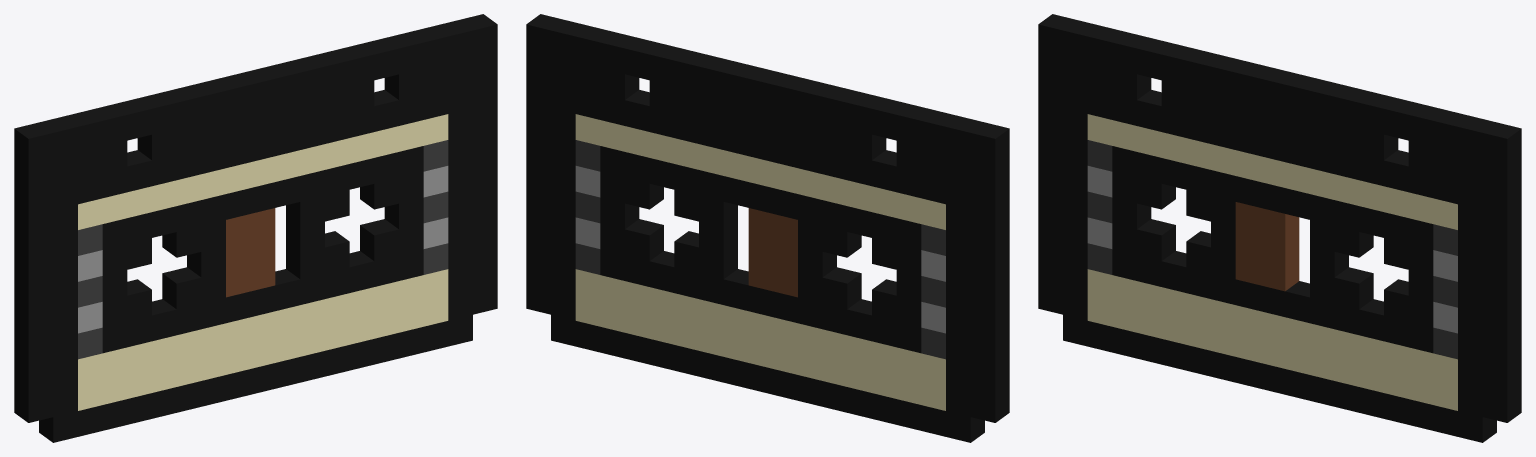
File: Tape.obj
3 renders of one model, left to right at view 1: azimuth 30°, elevation 25°; view 2: azimuth 150°, elevation 25°; view 3: azimuth 330°, elevation 25°, orthographic.
Visible parts, largest first — view 1: Untitled.035; view 2: Untitled.035; view 3: Untitled.035.
Part boxes in pixels (x1,y1,x2,y2): Untitled.035: [14, 14, 497, 442]; Untitled.035: [526, 14, 1009, 442]; Untitled.035: [1038, 14, 1521, 442].
Size of the model in its own units: 1.9 by 1.2 by 0.1.
